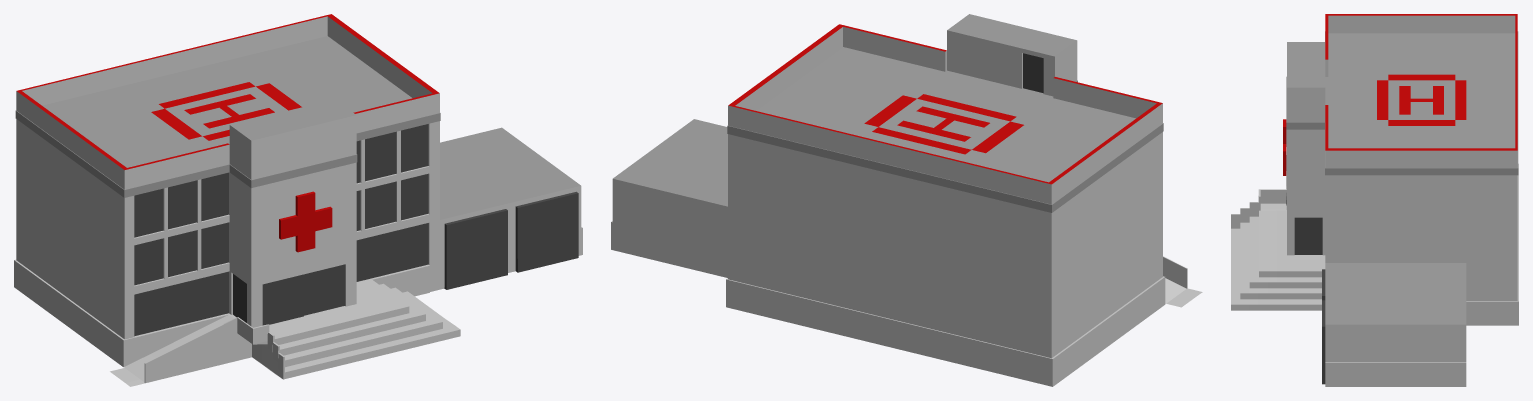
The model's file is hospital.fbx.
The picture shows the model from 3 angles, left to right: view 1: azimuth 30°, elevation 25°; view 2: azimuth 150°, elevation 25°; view 3: azimuth 270°, elevation 25°; orthographic projection. The views are drawn at different scales.
Visible parts, largest first — view 1: Cube; view 2: Cube; view 3: Cube.
Boxes of the visible parts, x1,y1,x2,y2 form: Cube: [14, 14, 582, 386]; Cube: [611, 14, 1202, 386]; Cube: [1231, 14, 1518, 386].
Size of the model in its own units: 25.3 by 11.01 by 14.96.
